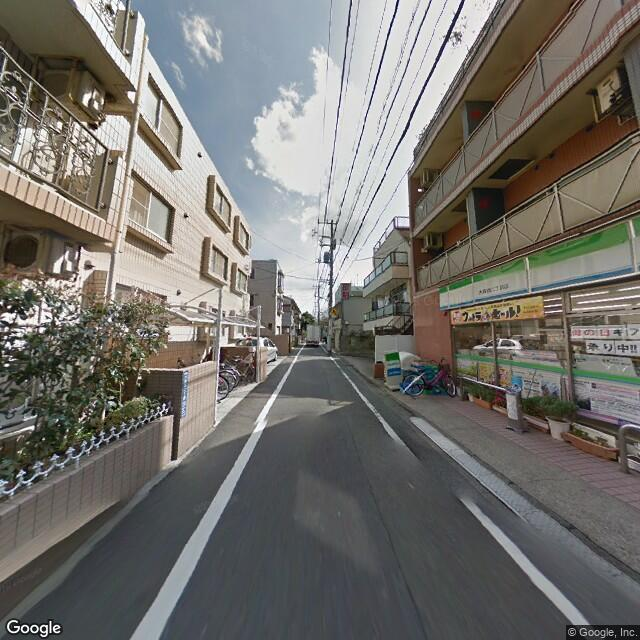family_mart: (439, 212, 637, 313), (383, 350, 402, 380)
